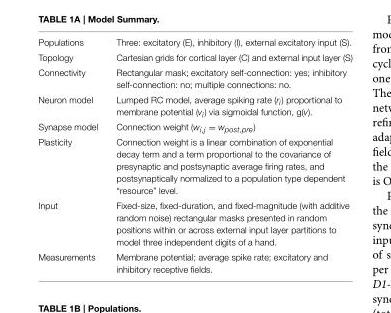table: (37, 37, 351, 273)
table column: (106, 37, 351, 273), (37, 37, 106, 273)
table row: (37, 135, 351, 197), (37, 197, 351, 249), (37, 64, 351, 92), (37, 92, 351, 120), (37, 249, 351, 273), (37, 49, 351, 64), (37, 120, 351, 135), (37, 37, 351, 49)
